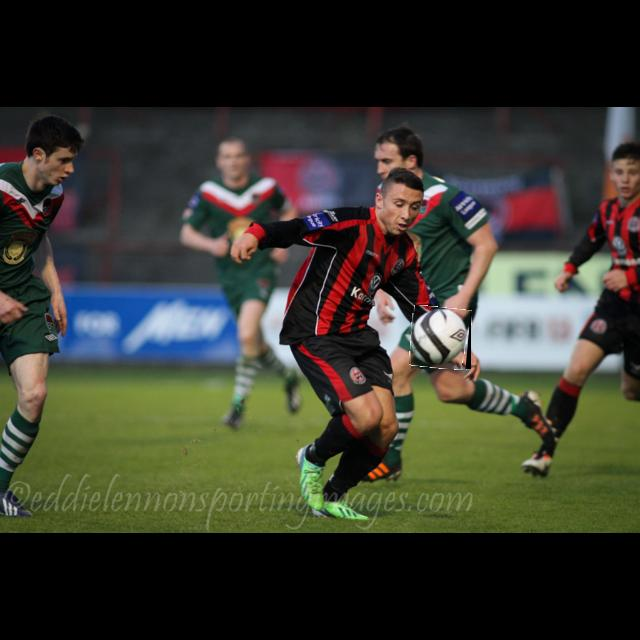Football: (411, 307, 471, 369)
